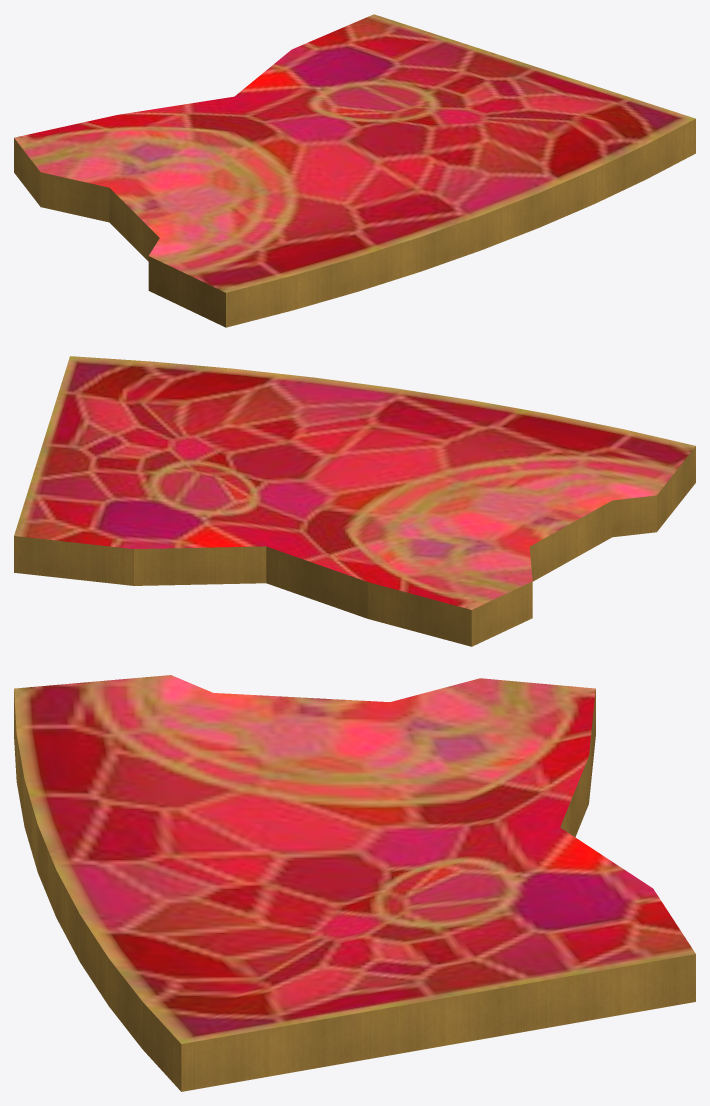
The model's file is lb_chunk_0_4.glb.
3 views of the same model, one above another, from view 1: azimuth 30°, elevation 25°; view 2: azimuth 150°, elevation 25°; view 3: azimuth 270°, elevation 25° (orthographic). The views are drawn at different scales.
Parts seen in each view (by area): view 1: lb_chunk_0_4; view 2: lb_chunk_0_4; view 3: lb_chunk_0_4.
Boxes of the visible parts, left/top/right/bottom form: lb_chunk_0_4: left=14, top=14, right=695, bottom=327; lb_chunk_0_4: left=14, top=356, right=695, bottom=646; lb_chunk_0_4: left=14, top=675, right=695, bottom=1091.
Bounding box in the file's own units: 5.96 × 0.36 × 4.65.
Materials: 2 (2 with a texture image).
